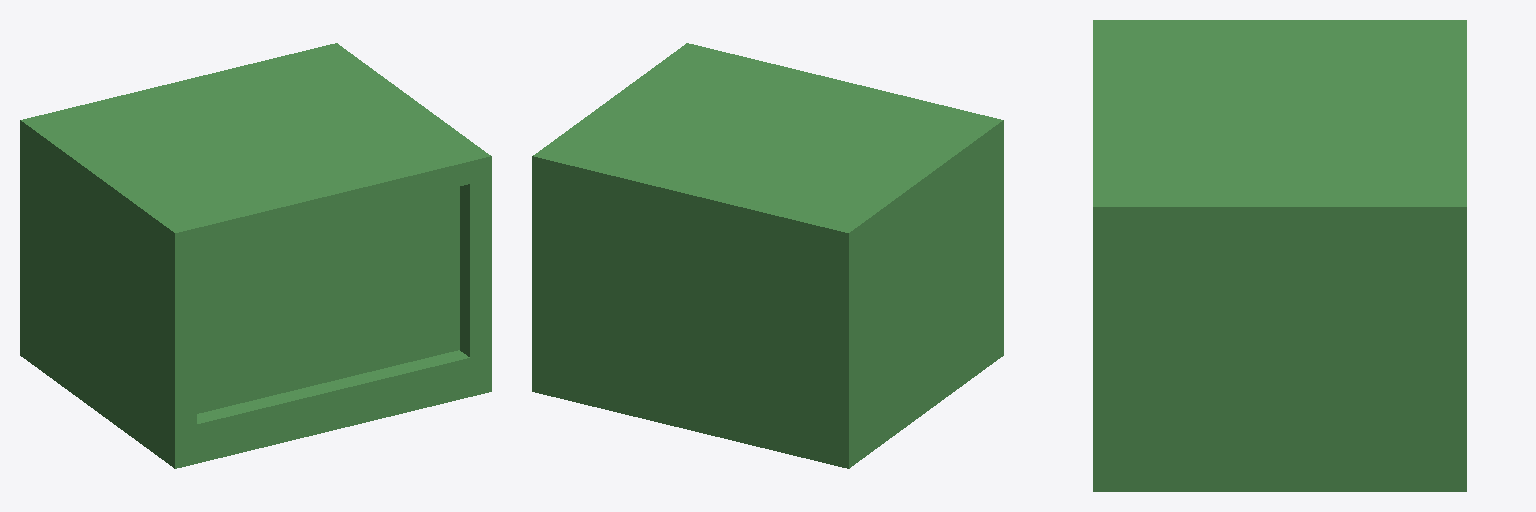
URDF robot description (drawer):
<?xml version="0.0" ?>
<robot name="drawer">
	<link name="link0_0">
		<inertial>
			<origin rpy="0.00000 -0.00000 0.00000" xyz="0.00000 0.00000 0.00000"/>
			<mass value="0.00000"/>
			<inertia ixx="0.00000" ixy="0" ixz="0" iyy="0.00000" iyz="0" izz="0.00000"/>
		</inertial>
	</link>
	<link name="drawercase_link">
		<inertial>
			<origin rpy="0.00000 -0.00000 0.00000" xyz="0.00000 0.00000 0.00000"/>
			<mass value="3.27514"/>
			<inertia ixx="0.01862" ixy="0" ixz="0" iyy="0.02290" iyz="0" izz="0.02612"/>
		</inertial>
		<visual>
			<origin rpy="0.00000 -0.00000 0.00000" xyz="-0.11000 0.00000 0.00000"/>
			<geometry>
				<box size="0.01600 0.20000 0.16800"/>
			</geometry>
			<material name="mat_0_0">
				<color rgba=".4 .65 .4 1" />
			</material>
		</visual>
		<visual>
			<origin rpy="0.00000 -0.00000 0.00000" xyz="0.11000 0.00000 0.00000"/>
			<geometry>
				<box size="0.01600 0.20000 0.16800"/>
			</geometry>
			<material name="mat_0_1">
				<color rgba=".4 .65 .4 1" />
			</material>
		</visual>
		<visual>
			<origin rpy="0.00000 -0.00000 0.00000" xyz="0.00000 0.09200 -0.00800"/>
			<geometry>
				<box size="0.20400 0.01600 0.15200"/>
			</geometry>
			<material name="mat_0_2">
				<color rgba=".4 .65 .4 1" />
			</material>
		</visual>
		<visual>
			<origin rpy="0.00000 -0.00000 0.00000" xyz="0.00000 -0.00800 -0.07000"/>
			<geometry>
				<box size="0.20400 0.18400 0.02800"/>
			</geometry>
			<material name="mat_0_3">
				<color rgba=".4 .65 .4 1" />
			</material>
		</visual>
		<visual>
			<origin rpy="0.00000 -0.00000 0.00000" xyz="0.00000 0.00000 0.07600"/>
			<geometry>
				<box size="0.20400 0.20000 0.01600"/>
			</geometry>
			<material name="mat_0_4">
				<color rgba=".4 .65 .4 1" />
			</material>
		</visual>
		<collision>
			<origin rpy="0.00000 -0.00000 0.00000" xyz="-0.11000 0.00000 0.00000"/>
			<geometry>
				<box size="0.01600 0.20000 0.16800"/>
			</geometry>
		</collision>
		<collision>
			<origin rpy="0.00000 -0.00000 0.00000" xyz="0.11000 0.00000 0.00000"/>
			<geometry>
				<box size="0.01600 0.20000 0.16800"/>
			</geometry>
		</collision>
		<collision>
			<origin rpy="0.00000 -0.00000 0.00000" xyz="0.00000 0.09200 -0.00800"/>
			<geometry>
				<box size="0.20400 0.01600 0.15200"/>
			</geometry>
		</collision>
		<collision>
			<origin rpy="0.00000 -0.00000 0.00000" xyz="0.00000 -0.00800 -0.07000"/>
			<geometry>
				<box size="0.20400 0.18400 0.02800"/>
			</geometry>
		</collision>
		<collision>
			<origin rpy="0.00000 -0.00000 0.00000" xyz="0.00000 0.00000 0.07600"/>
			<geometry>
				<box size="0.20400 0.20000 0.01600"/>
			</geometry>
		</collision>
	</link>
	<link name="link0_3">
		<inertial>
			<origin rpy="0.00000 -0.00000 0.00000" xyz="0.00000 0.00000 0.00000"/>
			<mass value="0.00000"/>
			<inertia ixx="0.00000" ixy="0" ixz="0" iyy="0.00000" iyz="0" izz="0.00000"/>
		</inertial>
	</link>
	<link name="drawer_link">
		<inertial>
			<origin rpy="0.00000 -0.00000 0.00000" xyz="0.00000 0.00000 0.00000"/>
			<mass value="1.79929"/>
			<inertia ixx="0.01146" ixy="0" ixz="0" iyy="0.00816" iyz="0" izz="0.01529"/>
		</inertial>
		<visual>
			<origin  rpy="0.00000 -0.00000 0.00000" xyz="0.00000 -0.08200 0.00800"/>
			<geometry>
				<box size="0.20000 0.01600 0.10400"/>
			</geometry>
			<material name="mat_0_74">
				<color rgba=".4 .65 .4 1" />
			</material>
		</visual>
		<collision>
			<origin rpy="0.00000 -0.00000 0.00000" xyz="0.00000 -0.08200 0.00800"/>
			<geometry>
				<box size="0.20000 0.01600 0.10400"/>
			</geometry>
		</collision>
		<visual>
			<origin  rpy="0.00000 -0.00000 0.00000" xyz="0.00000 0.08200 0.00800"/>
			<geometry>
				<box size="0.20000 0.01600 0.10400"/>
			</geometry>
			<material name="mat_0_84">
				<color rgba=".4 .65 .4 1" />
			</material>
		</visual>
		<collision>
			<origin rpy="0.00000 -0.00000 0.00000" xyz="0.00000 0.08200 0.00800"/>
			<geometry>
				<box size="0.20000 0.01600 0.10400"/>
			</geometry>
		</collision>
		<visual>
			<origin  rpy="0.00000 -0.00000 0.00000" xyz="-0.09200 0.00000 0.00800"/>
			<geometry>
				<box size="0.01600 0.14800 0.10400"/>
			</geometry>
			<material name="mat_0_75">
				<color rgba=".4 .65 .4 1" />
			</material>
		</visual>
		<collision>
			<origin rpy="0.00000 -0.00000 0.00000" xyz="-0.09200 0.00000 0.00800"/>
			<geometry>
				<box size="0.01600 0.14800 0.10400"/>
			</geometry>
		</collision>
		<visual>
			<origin rpy="0.00000 -0.00000 0.00000" xyz="0.09200 0.00000 0.00800"/>
			<geometry>
				<box size="0.01600 0.14800 0.10400"/>
			</geometry>
			<material name="mat_0_85">
				<color rgba=".4 .65 .4 1" />
			</material>
		</visual>
		<collision>
			<origin rpy="0.00000 -0.00000 0.00000" xyz="0.09200 0.00000 0.00800"/>
			<geometry>
				<box size="0.01600 0.14800 0.10400"/>
			</geometry>
		</collision>
		<visual>
			<origin  rpy="0.00000 -0.00000 0.00000" xyz="0.00000 0.00000 -0.05200"/>
			<geometry>
				<box size="0.20000 0.18000 0.01600"/>
			</geometry>
			<material name="mat_0_75">
				<color rgba=".4 .65 .4 1" />
			</material>
		</visual>
		<collision>
			<origin rpy="0.00000 -0.00000 0.00000" xyz="0.00000 0.00000 -0.05200"/>
			<geometry>
				<box size="0.20000 0.18000 0.01600"/>
			</geometry>
		</collision>
	</link>

    <link name='handle_link'>
        <inertial>
            <origin rpy="0.00000 -0.00000 0.00000" xyz="0.00000 0.00000 0.00000"/>
            <mass value="1.79929"/>
            <inertia ixx="0.01146" ixy="0" ixz="0" iyy="0.00816" iyz="0" izz="0.01529"/>
        </inertial>
        <visual>
			<origin  rpy="1.57 -0.00000 0.00000" xyz="-0.05000 -0.12000 0.00000"/>
			<geometry>
				<capsule length="0.06000" radius="0.00900"/>
			</geometry>
			<material name="mat_0_76">
				<color rgba=".4 .65 .4 1" />
			</material>
		</visual>
		<collision>
			<origin rpy="1.57 0.0 0.00000" xyz="-0.05000 -0.12000 0.00000"/>
			<geometry>
				<capsule length="0.06000" radius="0.00900"/>
			</geometry>
		</collision>
		<visual>
			<origin  rpy="0.00000 1.57 0.00000" xyz="0.00000 -0.15000 0.00000"/>
			<geometry>
				<capsule length="0.10000" radius="0.00900"/>
			</geometry>
			<material name="mat_0_77">
				<color rgba=".4 .65 .4 1" />
			</material>
		</visual>
		<collision>
			<origin rpy="0.00000 1.57 0.00000" xyz="0.00000 -0.15000 0.00000"/>
			<geometry>
				<capsule length="0.10000" radius="0.00900"/>
			</geometry>
		</collision>
		<visual>
			<origin  rpy="1.57 -0.00000 0.00000" xyz="0.05000 -0.12000 0.00000"/>
			<geometry>
				<capsule length="0.06000" radius="0.00900"/>
			</geometry>
			<material name="mat_0_97">
				<color rgba=".75 .75 .75 1" />
			</material>
		</visual>
		<collision>
			<origin rpy="1.57 -0.00000 0.00000" xyz="0.05000 -0.12000 0.00000"/>
			<geometry>
				<capsule length="0.06000" radius="0.00900"/>
			</geometry>
		</collision>
    </link>

	<joint name="jointfix_2_0" type="fixed">
		<parent link="link0_0"/>
		<child link="drawercase_link"/>
		<dynamics damping="1.0" friction="0.0001"/>
		<origin rpy="0.00000 -0.00000 0.00000" xyz="0.00000 0.00000 0.08400"/>
		<axis xyz="0.00000 0.00000 0.00000"/>
	</joint>
	<joint name="goal_slidey" type="fixed">
		<parent link="drawercase_link"/>
		<child link="link0_3"/>
		<limit effort="0.00000" lower="0.16000" upper="0.00000" velocity="0.00000"/>
		<dynamics damping="1.0" friction="0.0001"/>
		<origin rpy="0.00000 -0.00000 0.00000" xyz="0.00000 0.000 0.00600"/>
		<axis xyz="0.00000 1.00000 0.00000"/>
	</joint>
	<joint name="jointfix_1_3" type="fixed">
		<parent link="link0_3"/>
		<child link="drawer_link"/>
		<dynamics damping="1.0" friction="0.0001"/>
		<origin rpy="0.00000 -0.00000 0.00000" xyz="0.00000 0.00000 0.00000"/>
		<axis xyz="0.00000 0.00000 0.00000"/>
	</joint>
	<joint name="jointfix_1_5" type="fixed">
		<parent link="drawer_link"/>
		<child link="handle_link"/>
		<dynamics damping="1.0" friction="0.0001"/>
		<origin rpy="0.00000 -0.00000 0.00000" xyz="0.00000 0.00000 0.00000"/>
		<axis xyz="0.00000 0.00000 0.00000"/>
	</joint>
</robot>

--- Facts derived from the render (not from the file) ---
3 views of the same robot in one strip: view 1: azimuth 30°, elevation 25°; view 2: azimuth 150°, elevation 25°; view 3: azimuth 270°, elevation 25° (orthographic).
Model drawer with 5 links and 4 joints (4 fixed), rooted at link0_0, posed every joint at zero.
Links seen in each view (by area): view 1: drawercase_link, drawer_link; view 2: drawercase_link; view 3: drawercase_link.
Boxes of the visible links, x1=… form: drawercase_link: x1=20, y1=43, x2=491, y2=468; drawer_link: x1=197, y1=186, x2=459, y2=413; drawercase_link: x1=532, y1=43, x2=1003, y2=468; drawercase_link: x1=1093, y1=20, x2=1466, y2=491.
Bounding box of the posed robot: 0.236 × 0.2 × 0.168 m (x, y, z).
Geometry: primitives only (box / cylinder / sphere), no mesh files.